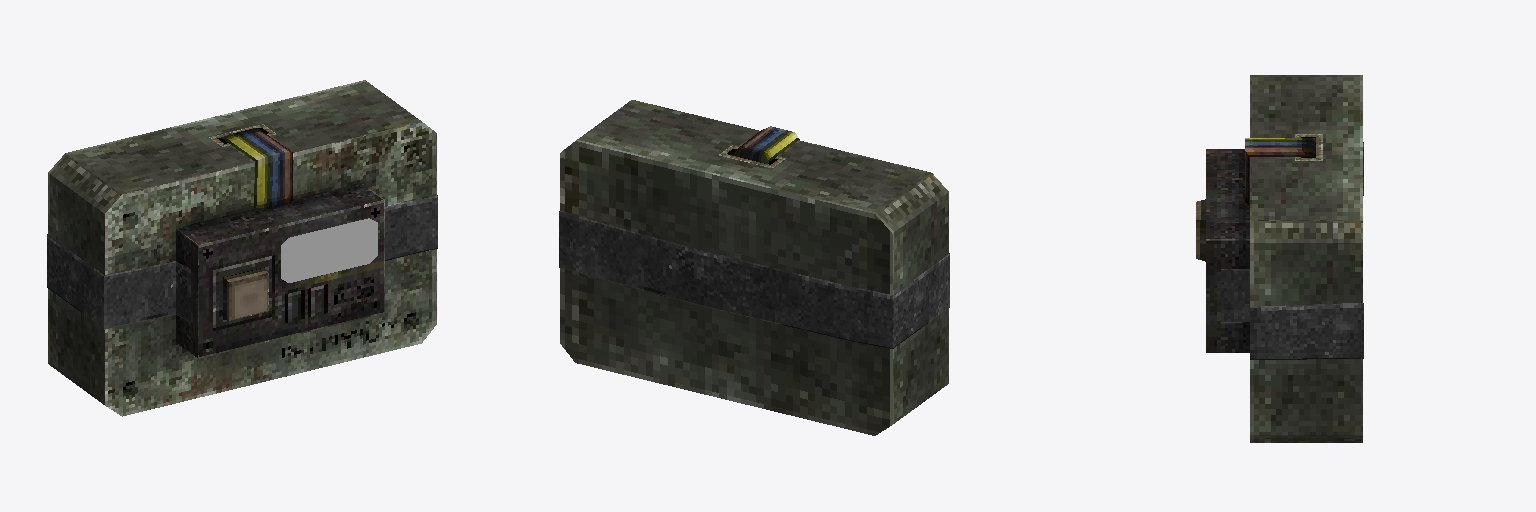
The picture shows the model from 3 angles: view 1: azimuth 30°, elevation 25°; view 2: azimuth 150°, elevation 25°; view 3: azimuth 270°, elevation 25°; orthographic projection.
Visible parts, largest first — view 1: _0_0_node__0_0, _1_0_node__1_0; view 2: _0_0_node__0_0; view 3: _0_0_node__0_0.
Part boxes in pixels (x1,y1,x2,y2): _0_0_node__0_0: (47, 80, 437, 416); _1_0_node__1_0: (281, 218, 377, 282); _0_0_node__0_0: (559, 100, 949, 435); _0_0_node__0_0: (1196, 75, 1363, 442).
Bounding box in the file's own units: 4.97 × 3.23 × 2.16.
2 materials, 1 textured.